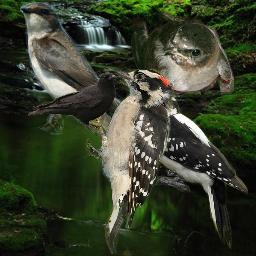Crow: (28, 72, 116, 136)
Swallow: (20, 2, 159, 154), (115, 11, 234, 117)
Woodpecker: (117, 77, 248, 249), (85, 69, 176, 254)
